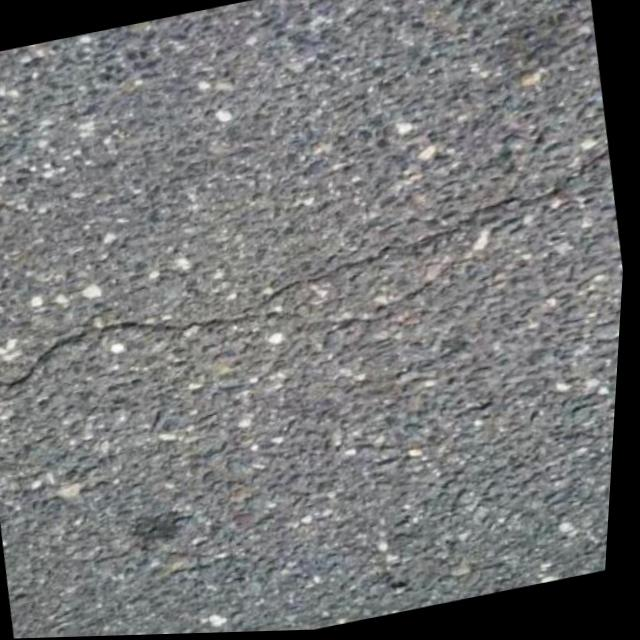Crack: (0, 295, 261, 401), (259, 226, 462, 308), (455, 149, 616, 229)
